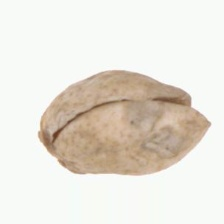L1: (166, 85, 211, 132), (37, 127, 74, 172)
L2: (39, 69, 212, 176)
